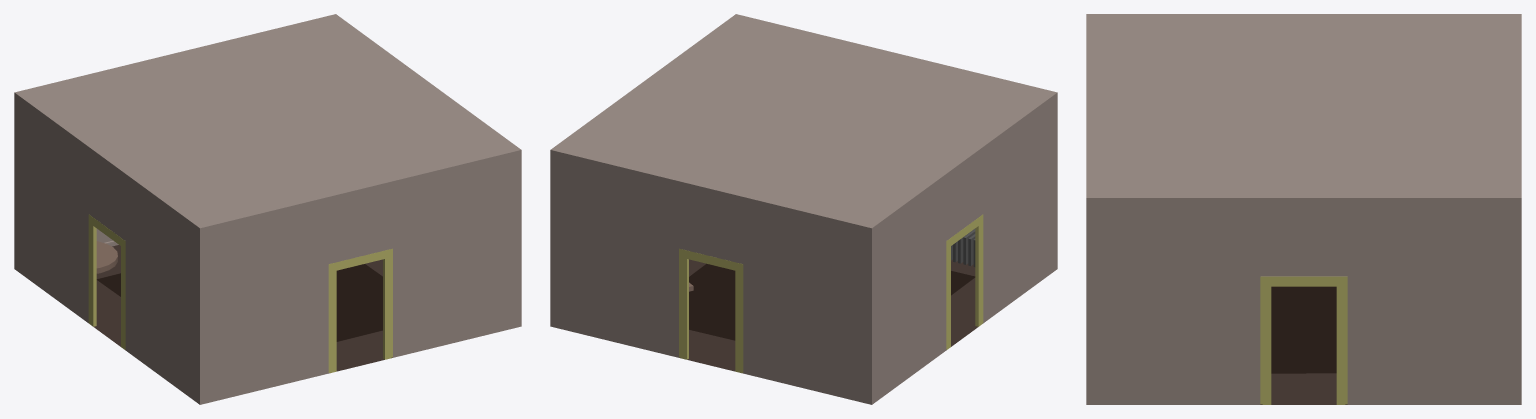
Rendered from Room04_Ballroom.fbx.
3 views of the same model, side by side, from view 1: azimuth 30°, elevation 25°; view 2: azimuth 150°, elevation 25°; view 3: azimuth 270°, elevation 25° (orthographic). The views are drawn at different scales.
Visible parts, largest first — view 1: Roof, WallSlicedPosZ, WallSlicedPosX, pPlane6, Floor, DoorFramePosZ, DoorFramePosX, WallSlicedNegX, WallSlicedNegZ, pCylinder3; view 2: Roof, WallSlicedNegZ, WallSlicedPosX, pPlane6, Floor, DoorFrameNegZ, DoorFramePosX, heater, WallSlicedPosZ; view 3: Roof, WallSlicedNegX, pPlane6, DoorFrameNegX, Floor, WallSlicedNegZ, WallSlicedPosZ, WallSlicedPosX.
Boxes of the visible parts, x1=… form: Roof: x1=17, y1=15, x2=518, y2=227; WallSlicedPosZ: x1=198, y1=149, x2=521, y2=404; WallSlicedPosX: x1=14, y1=92, x2=201, y2=403; pPlane6: x1=96, y1=264, x2=382, y2=341; Floor: x1=89, y1=245, x2=392, y2=373; DoorFramePosZ: x1=328, y1=248, x2=392, y2=372; DoorFramePosX: x1=88, y1=214, x2=125, y2=349; WallSlicedNegX: x1=336, y1=14, x2=521, y2=326; WallSlicedNegZ: x1=14, y1=14, x2=336, y2=269; pCylinder3: x1=96, y1=241, x2=117, y2=273; Roof: x1=553, y1=15, x2=1054, y2=227; WallSlicedNegZ: x1=550, y1=149, x2=872, y2=404; WallSlicedPosX: x1=869, y1=92, x2=1056, y2=404; pPlane6: x1=689, y1=263, x2=975, y2=340; Floor: x1=679, y1=259, x2=982, y2=373; DoorFrameNegZ: x1=679, y1=248, x2=743, y2=372; DoorFramePosX: x1=946, y1=214, x2=983, y2=349; heater: x1=951, y1=228, x2=975, y2=266; WallSlicedPosZ: x1=735, y1=14, x2=1057, y2=269; Roof: x1=1088, y1=14, x2=1519, y2=197; WallSlicedNegX: x1=1086, y1=197, x2=1521, y2=404; pPlane6: x1=1271, y1=286, x2=1336, y2=373; DoorFrameNegX: x1=1260, y1=276, x2=1347, y2=404; Floor: x1=1260, y1=373, x2=1347, y2=404; WallSlicedNegZ: x1=1518, y1=14, x2=1521, y2=404; WallSlicedPosZ: x1=1086, y1=14, x2=1089, y2=404; WallSlicedPosX: x1=1088, y1=14, x2=1521, y2=14.
Size of the model in its own units: 800 by 420 by 800.
